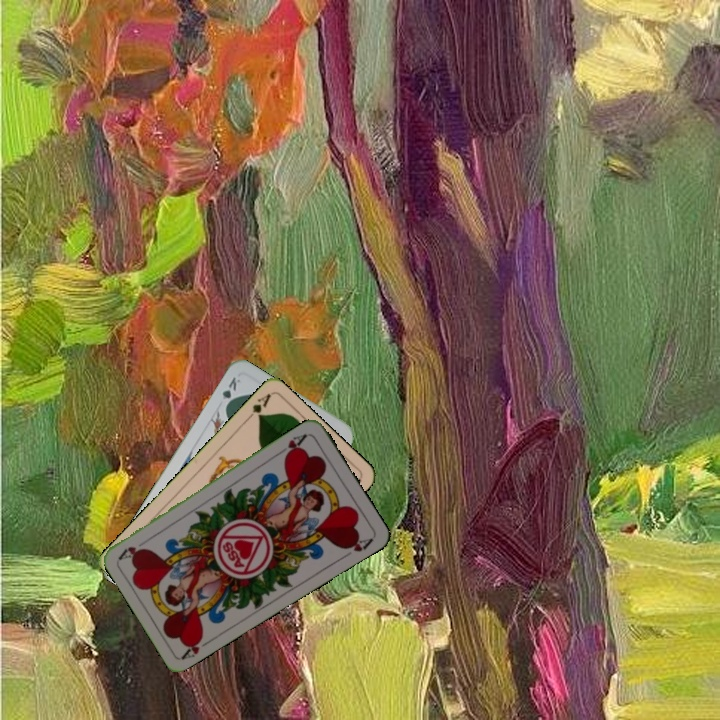GA: (242, 390, 273, 424)
GK: (218, 373, 243, 411)
HA: (178, 631, 215, 662), (274, 430, 310, 461)
